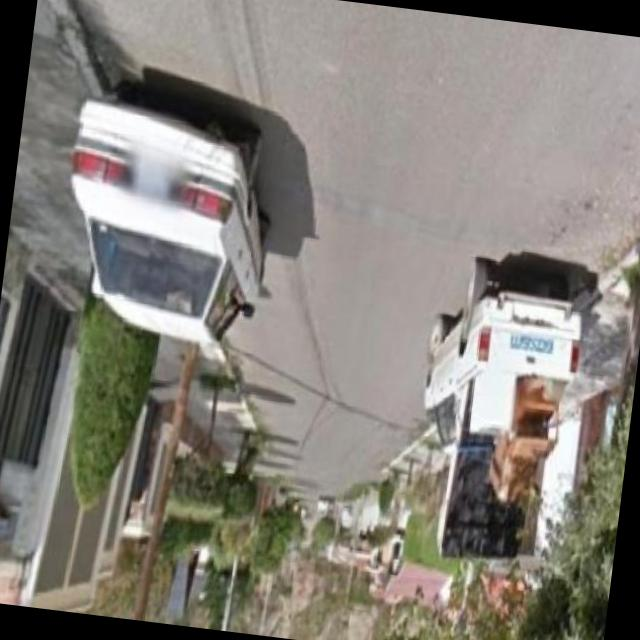car: (60, 76, 282, 347), (420, 238, 599, 480)
